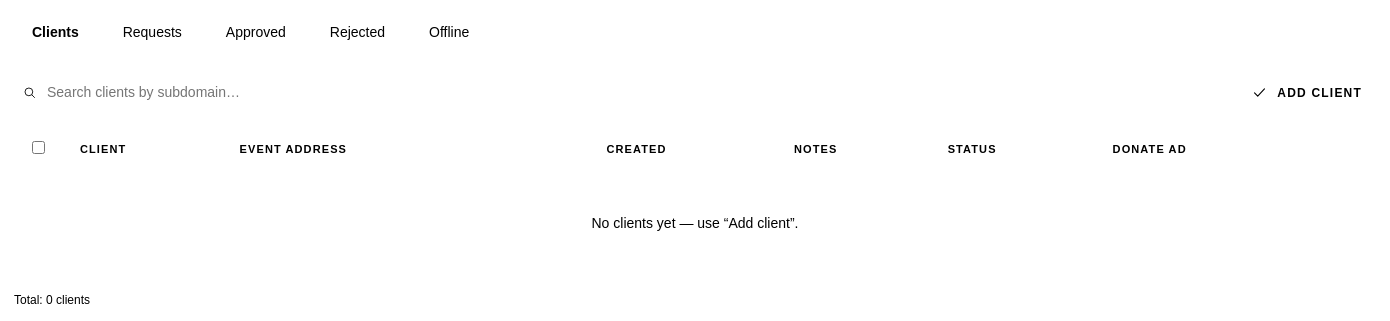
Approved tab Note column = client's private note › prefers the client_notes private note over the request's content.note
The image size is (1390, 321).
Step 1. Click the button "Approved" → (256, 32), box [206, 13, 306, 51]
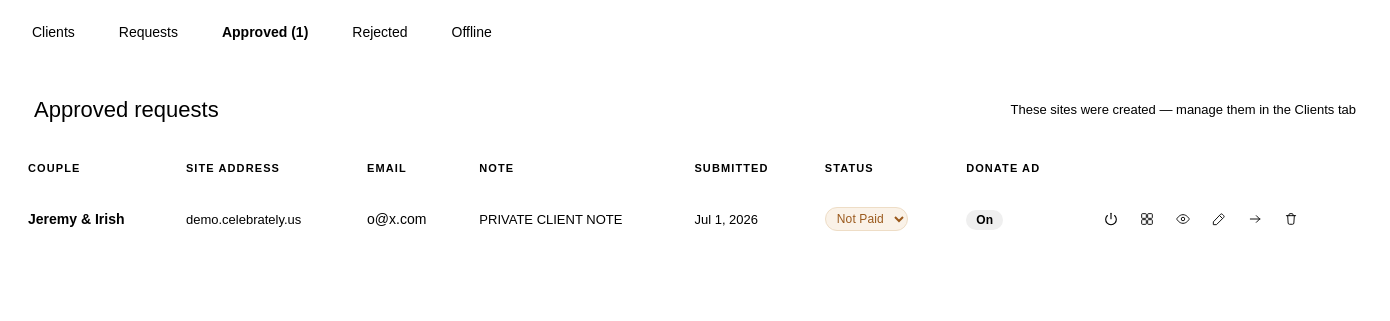
Result: the text "PRIVATE CLIENT NOTE" is shown at [479, 212, 622, 227]
